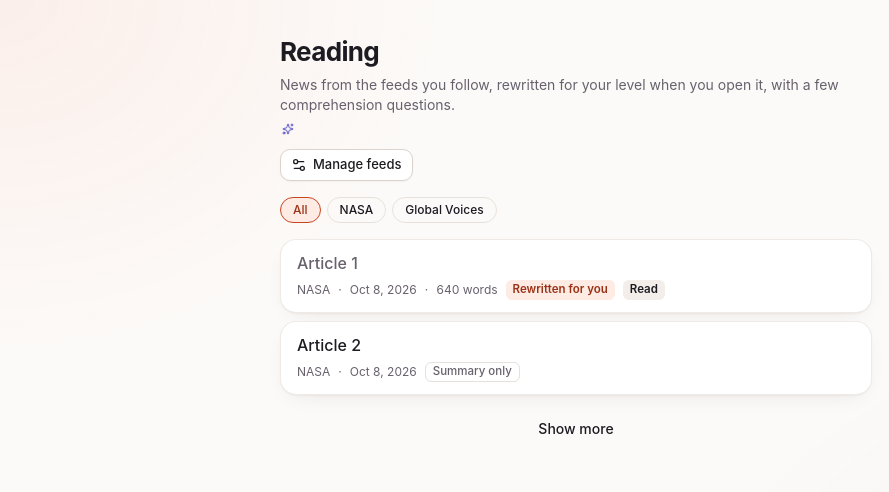
Scenario: ReadingList › lists articles with their marks and loads more
Expected: the number of links with test id "reading-article" is 2, [280,239,872,313]; [280,321,872,395]
Expected: the link with test id "reading-article" shows "Rewritten for you", [280,239,872,313]
Step 1. Click the button "Show more" → (576, 429), box [523,411,629,447]
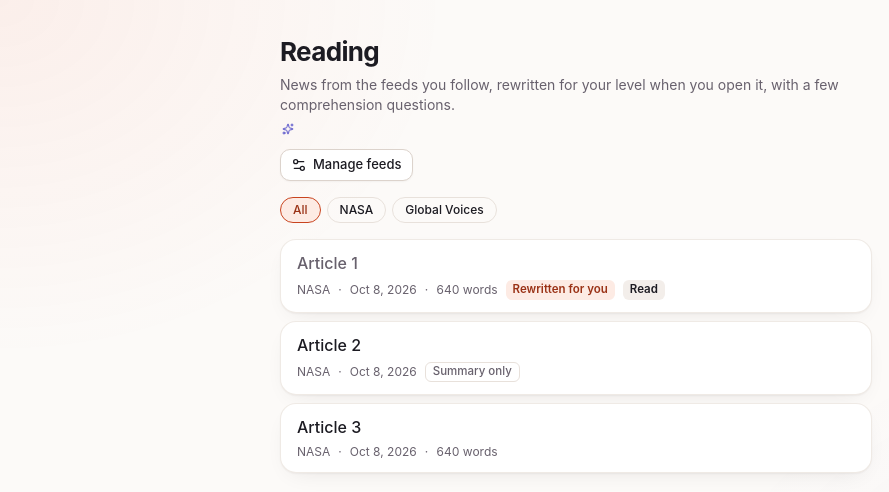
Now the text "Article 3" is shown, box [297,417,361,437]
Now the button "Show more" is gone
